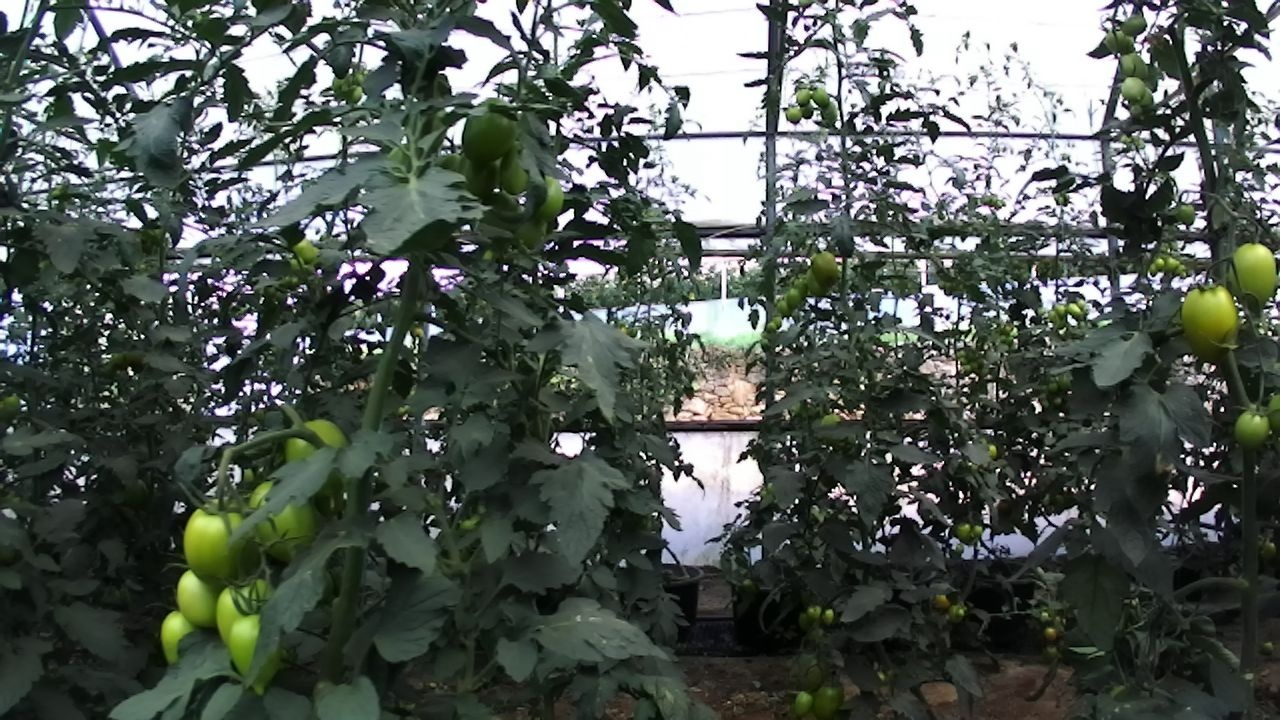tomato: (172, 493, 269, 594), (267, 397, 363, 497), (241, 472, 330, 566), (1170, 274, 1259, 368), (207, 567, 294, 653), (220, 602, 296, 700), (1216, 228, 1280, 324), (163, 564, 241, 634), (146, 600, 211, 675), (455, 105, 524, 168), (523, 161, 575, 229), (1226, 395, 1279, 461), (492, 138, 538, 199), (806, 677, 851, 720), (808, 247, 846, 289), (800, 263, 837, 302), (1116, 48, 1154, 83), (1114, 73, 1154, 105), (785, 686, 822, 719), (1173, 196, 1204, 233), (1119, 8, 1154, 40), (779, 282, 806, 314), (815, 97, 842, 128), (808, 82, 835, 112), (950, 517, 978, 543), (771, 294, 796, 319), (791, 83, 814, 109), (795, 99, 819, 123), (1040, 621, 1061, 646), (784, 104, 805, 127), (817, 606, 838, 629), (1064, 298, 1084, 319), (804, 602, 824, 622), (1162, 253, 1179, 275), (1145, 259, 1160, 278), (1151, 254, 1167, 271)
